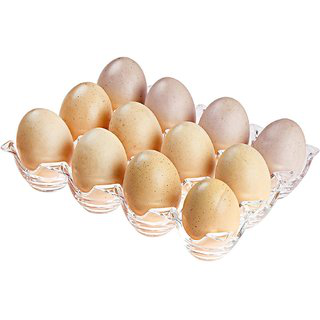egg: (18, 56, 311, 239)
